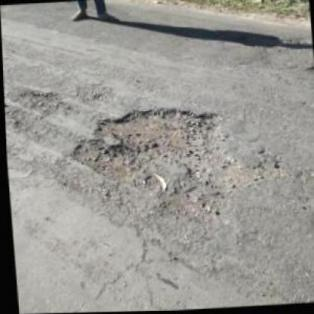Hueco: (65, 98, 287, 230), (15, 87, 64, 117)
